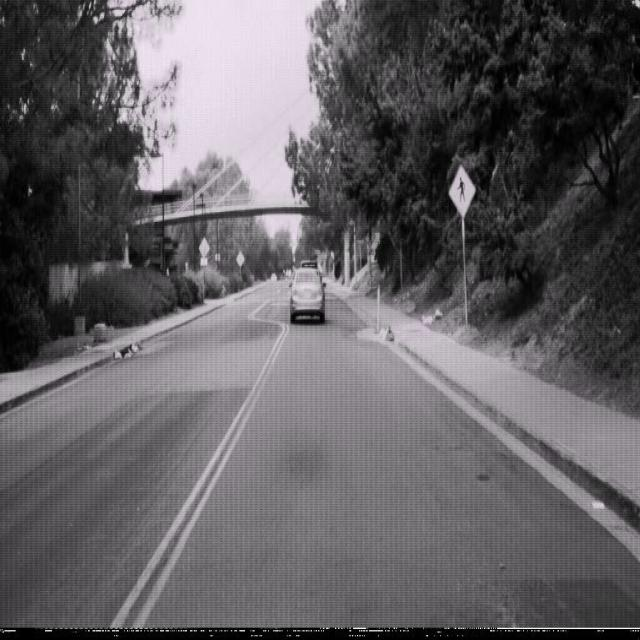pedestrianCrossing: (447, 162, 476, 217)
